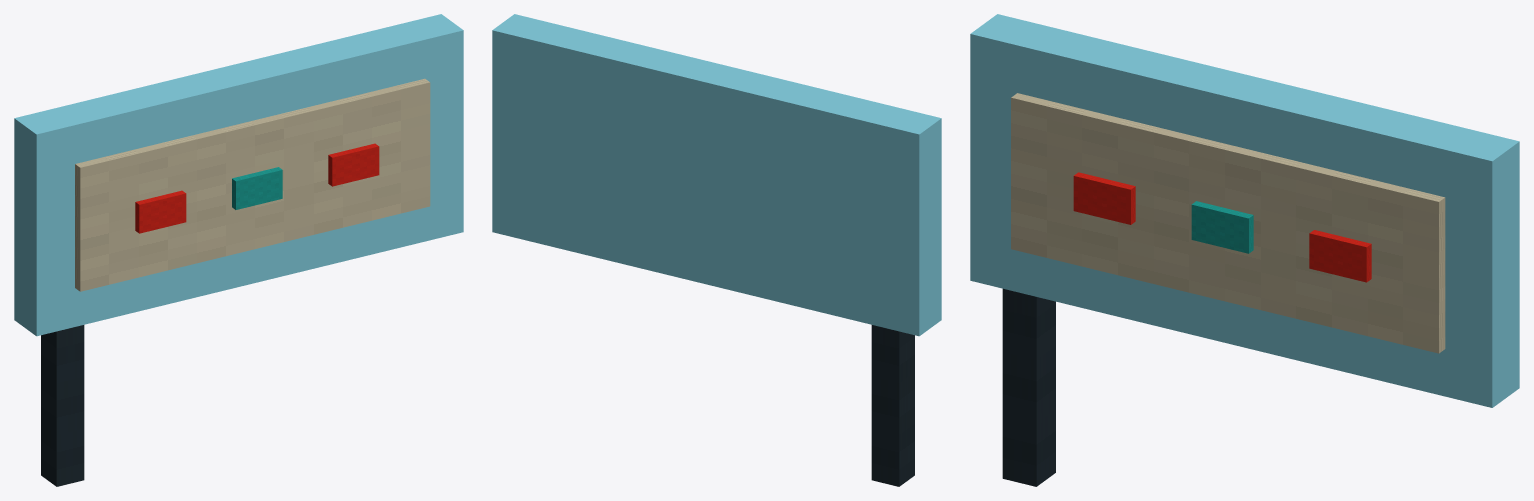
File: bp_decorsign.glb
3 renders of one model, left to right at view 1: azimuth 30°, elevation 25°; view 2: azimuth 150°, elevation 25°; view 3: azimuth 330°, elevation 25°, orthographic. The views are drawn at different scales.
Visible parts, largest first — view 1: Board, Inset, Bracket, Mark, Mark.002, Mark.001; view 2: Board, Bracket; view 3: Board, Inset, Bracket, Mark, Mark.001, Mark.002.
Boxes of the visible parts, x1,y1,x2,y2 form: Board: [14, 14, 463, 336]; Inset: [75, 78, 430, 291]; Bracket: [41, 325, 84, 486]; Mark: [135, 190, 186, 233]; Mark.002: [328, 143, 379, 186]; Mark.001: [232, 167, 282, 209]; Board: [492, 14, 941, 336]; Bracket: [871, 325, 914, 486]; Board: [970, 14, 1519, 407]; Inset: [1011, 93, 1445, 353]; Bracket: [1002, 288, 1055, 486]; Mark: [1073, 172, 1135, 224]; Mark.001: [1191, 201, 1253, 253]; Mark.002: [1309, 230, 1371, 282].
Size of the model in its own units: 1.55 by 1.25 by 0.1975.
Materials: 5 (4 with a texture image).
